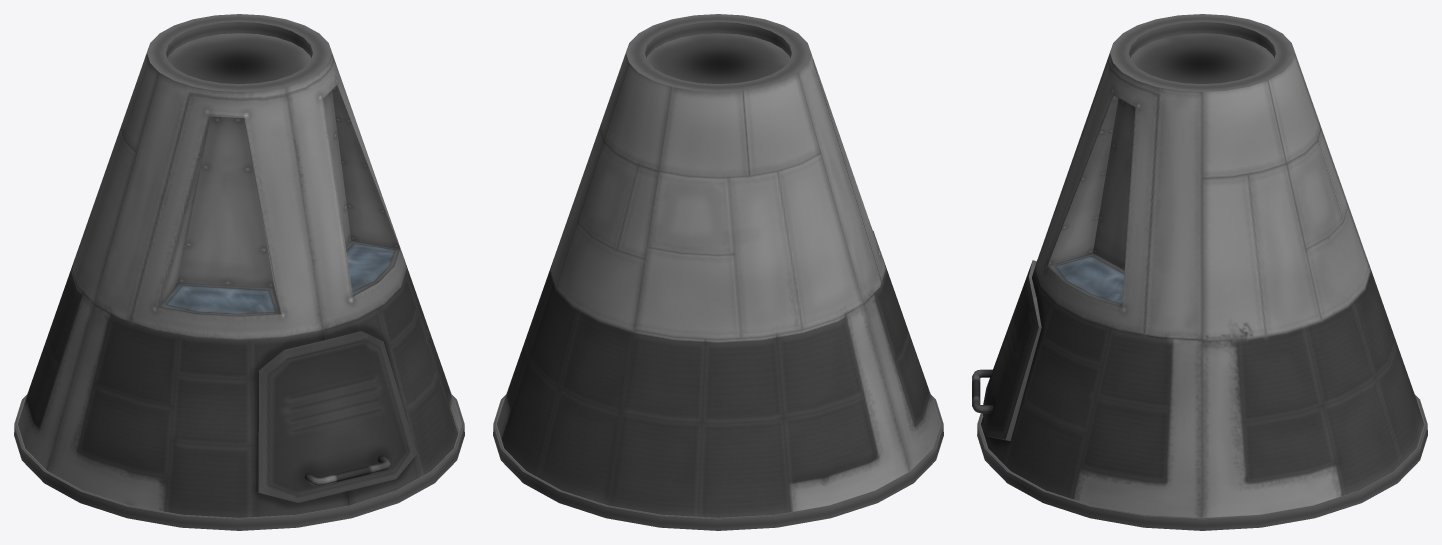
The model's file is bluedog_FenrisPod.dae.
3 renders of one model, left to right at view 1: azimuth 30°, elevation 25°; view 2: azimuth 150°, elevation 25°; view 3: azimuth 270°, elevation 25°, orthographic.
Visible parts, largest first — view 1: Capsule, Door, Ladder; view 2: Capsule; view 3: Capsule, Door, Ladder.
Boxes of the visible parts, x1,y1,x2,y2 form: Capsule: (14, 14, 464, 530); Door: (256, 331, 417, 502); Ladder: (304, 455, 390, 486); Capsule: (493, 14, 943, 530); Capsule: (977, 14, 1427, 530); Door: (983, 260, 1041, 441); Ladder: (972, 369, 993, 413).
Bounding box in the file's own units: 1.52 × 1.43 × 1.54.
